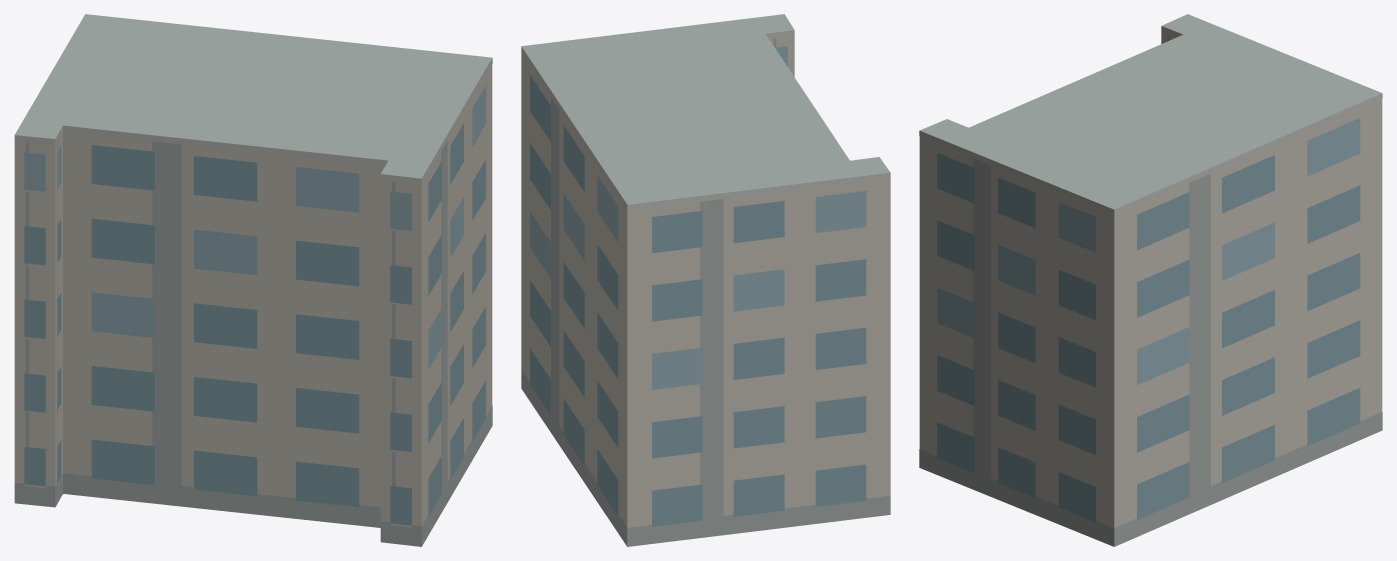
Rendered from survey-upis-32958668.glb.
The picture shows the model from 3 angles, left to right: view 1: azimuth 30°, elevation 25°; view 2: azimuth 150°, elevation 25°; view 3: azimuth 270°, elevation 25°; orthographic projection. The views are drawn at different scales.
Parts seen in each view (by area): view 1: survey-upis-32958668.tmp; view 2: survey-upis-32958668.tmp; view 3: survey-upis-32958668.tmp.
Boxes of the visible parts, box(x1,y1,x2,y2) form: survey-upis-32958668.tmp: box(14, 14, 492, 546); survey-upis-32958668.tmp: box(521, 14, 890, 546); survey-upis-32958668.tmp: box(919, 14, 1382, 546).
Bounding box in the file's own units: 18.05 × 14.5 × 18.05.
